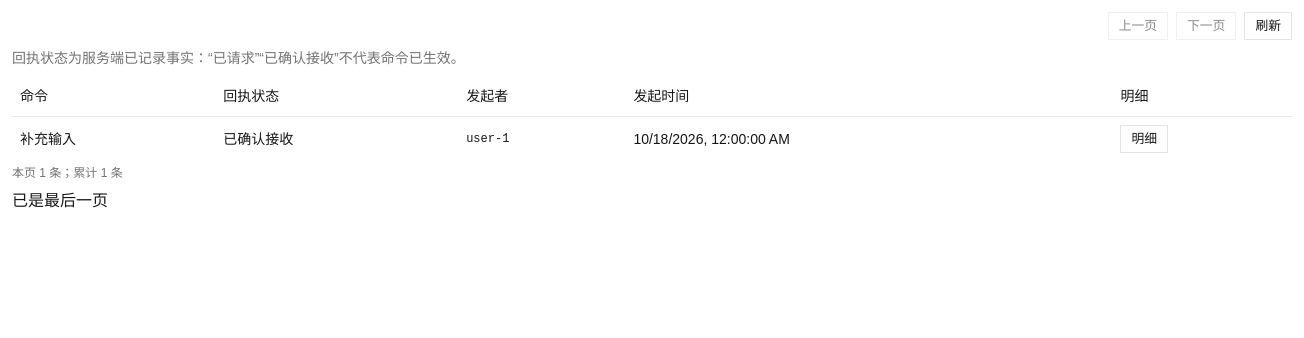
Test: TaskCommandsPanel › renders command fields and expandable details from the first page
Expected: the element with test id "task-commands-table" is shown, [12, 48, 1292, 180]
Expected: the text "补充输入" is shown, [12, 116, 215, 160]
Click the button with test id "task-command-expand" at (1144, 138), box [1120, 124, 1168, 152]
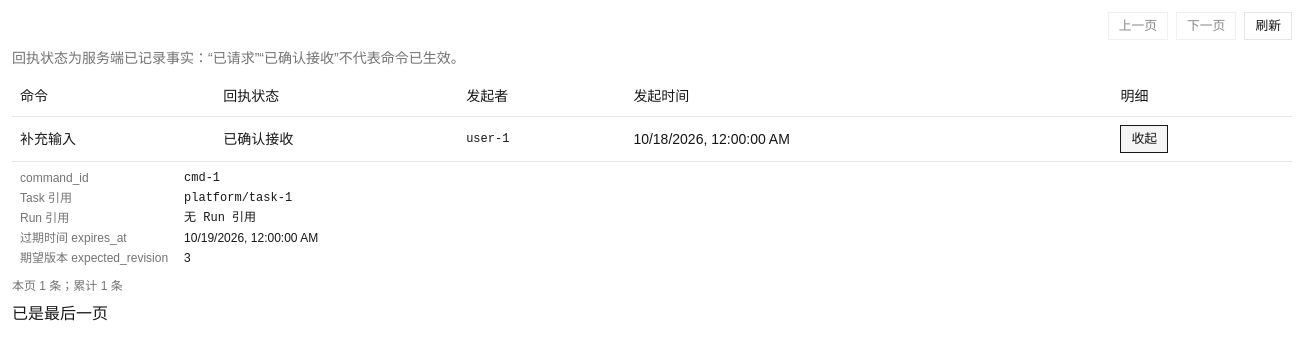
Now the row with test id "task-command-detail" shows "cmd-1", box [184, 170, 220, 184]
Now the row with test id "task-command-detail" shows "platform/task-1", box [184, 190, 292, 204]
Now the text with test id "task-command-run-ref" reads "无 Run 引用", box [184, 210, 256, 224]
